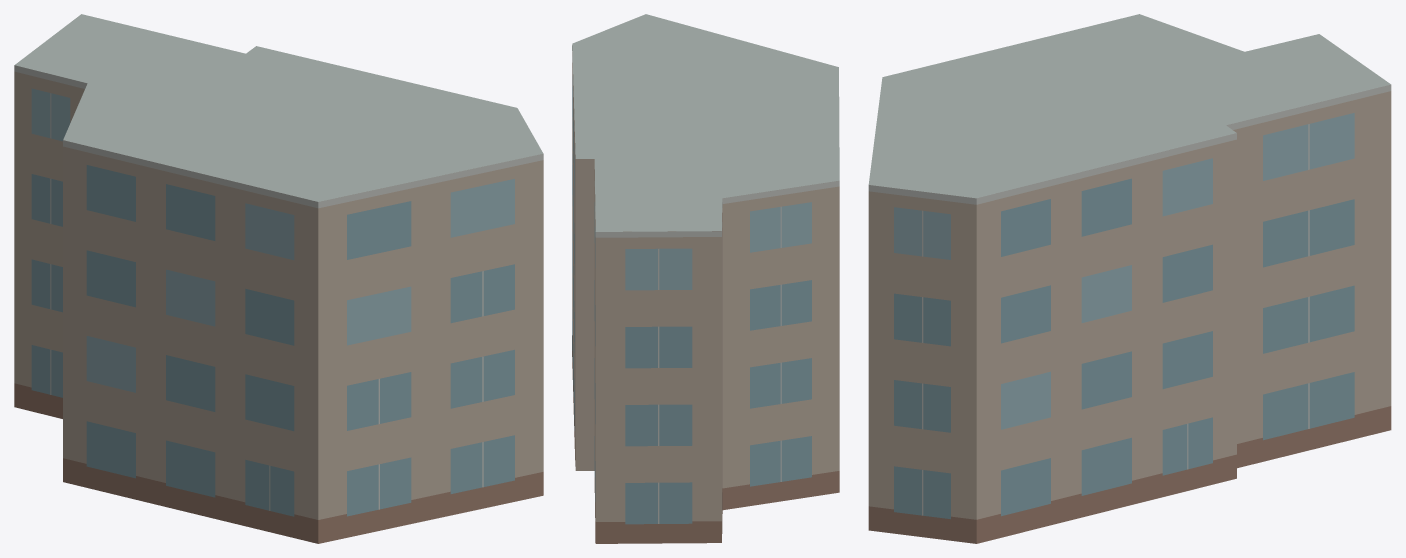
File: survey-upis-33034834.glb
3 renders of one model, left to right at view 1: azimuth 30°, elevation 25°; view 2: azimuth 150°, elevation 25°; view 3: azimuth 270°, elevation 25°, orthographic. The views are drawn at different scales.
Visible parts, largest first — view 1: survey-upis-33034834.tmp; view 2: survey-upis-33034834.tmp; view 3: survey-upis-33034834.tmp.
Boxes of the visible parts, x1,y1,x2,y2 form: survey-upis-33034834.tmp: (14, 14, 543, 543); survey-upis-33034834.tmp: (572, 14, 839, 543); survey-upis-33034834.tmp: (868, 14, 1391, 543).
Size of the model in its own units: 15 by 13.1 by 17.97.
